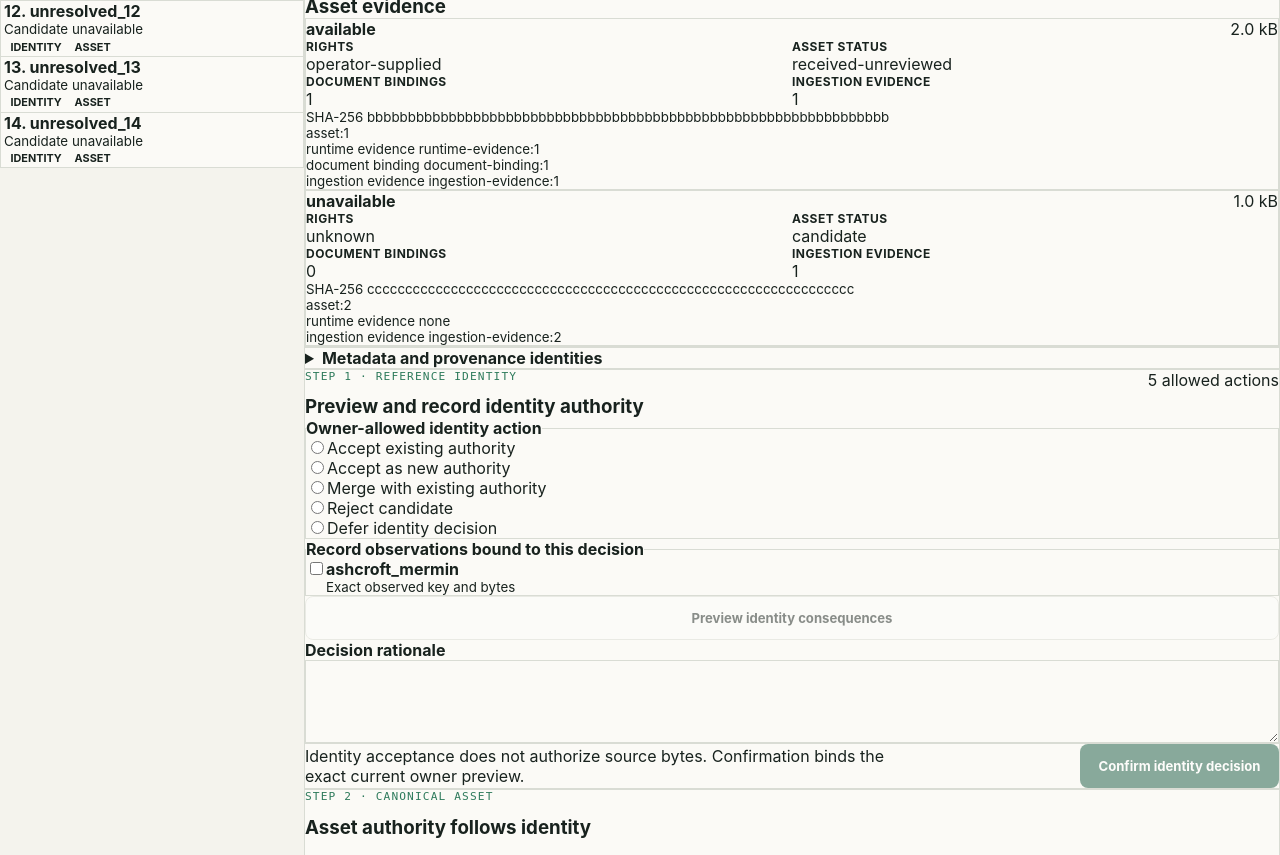
Test case: guards queue navigation while a draft is dirty
The width and height of the screenshot is (1280, 855).
(page scrolled)
Click the radio button labelled "Defer identity decision": (318, 528) [311,521,324,534]
(page scrolled)
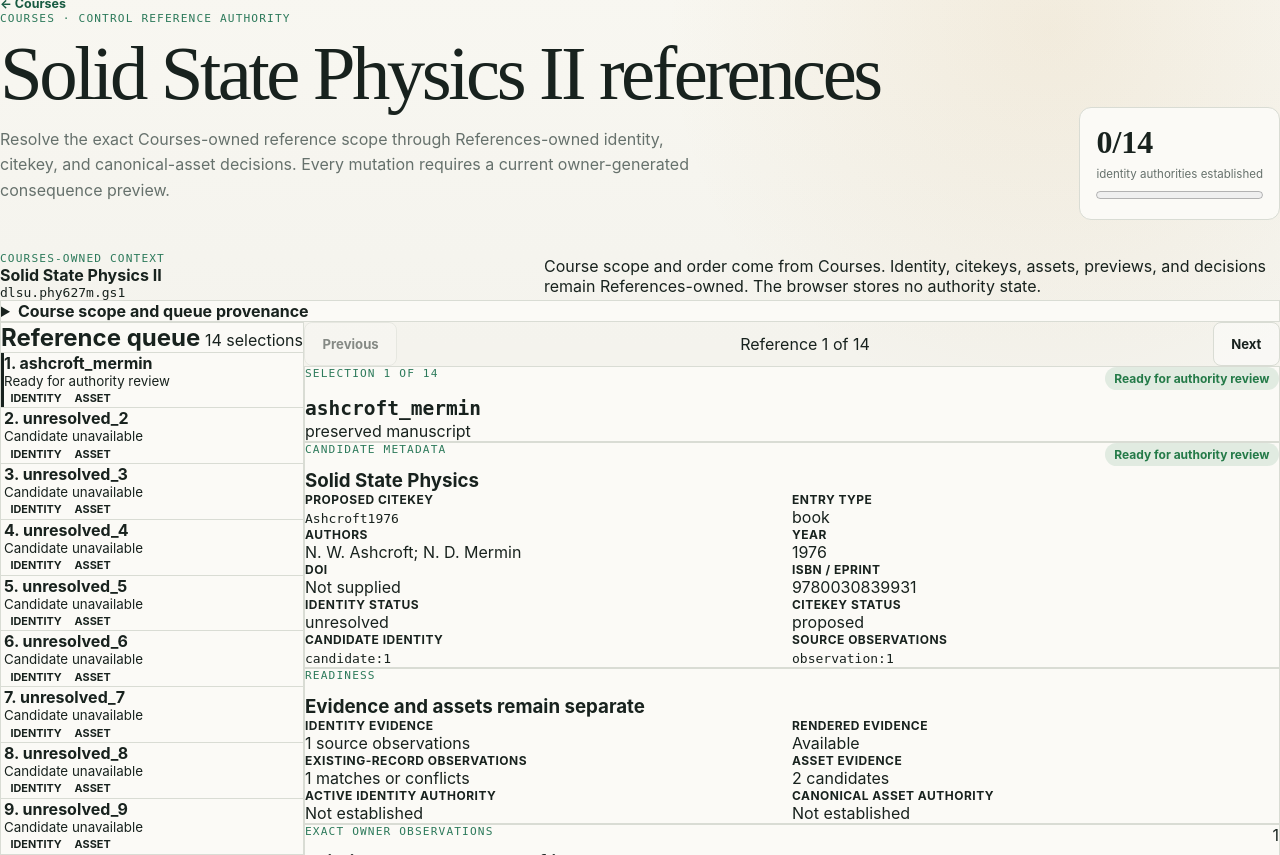
Click the button with aria-label "Select reference 2 of 14: unresolved_2": (76, 418) [1,408,303,463]
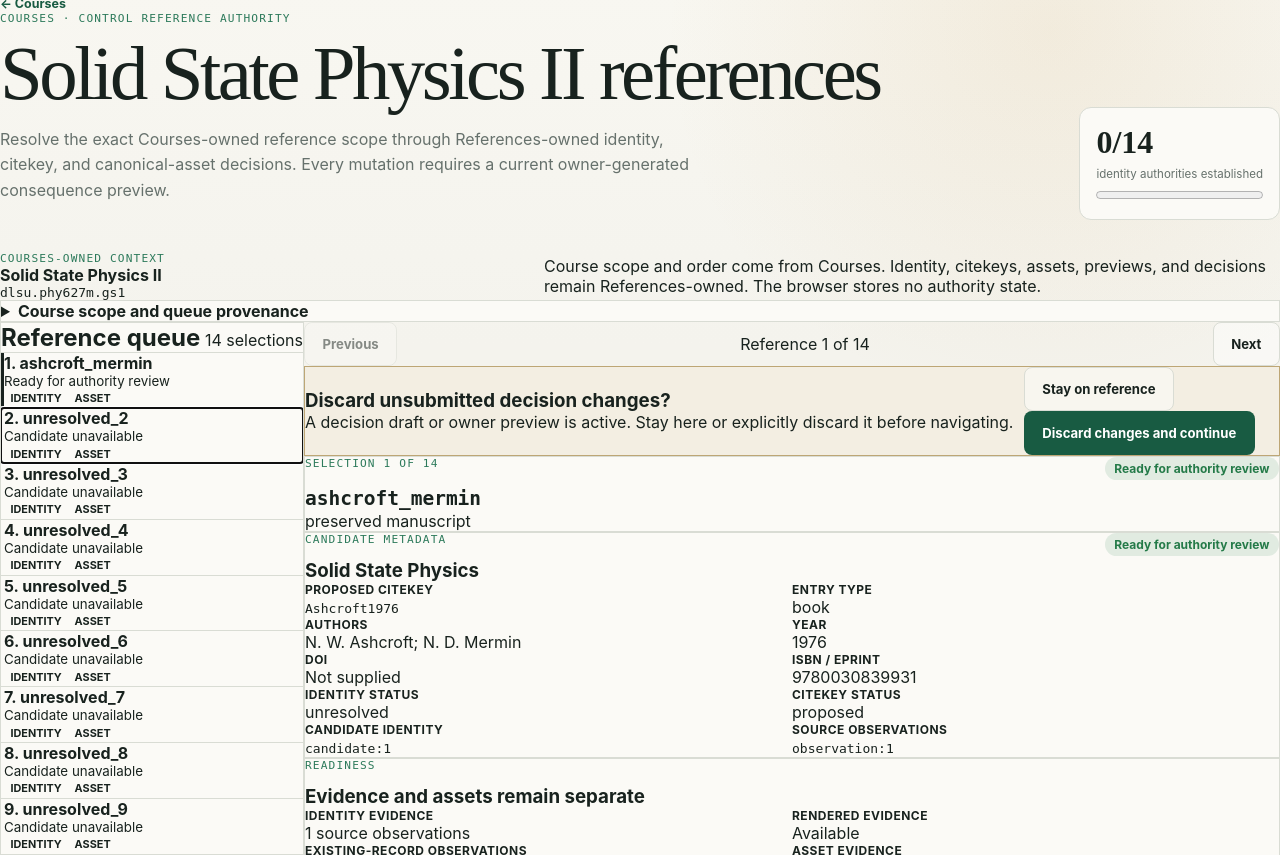
Expected: the text "ashcroft_mermin" is shown, [305,487,481,510]
Result: the heading "Discard unsubmitted decision changes?" is shown at [305,389,671,412]
Click the button "Discard changes and continue": (1139, 432) [1024,410,1255,454]
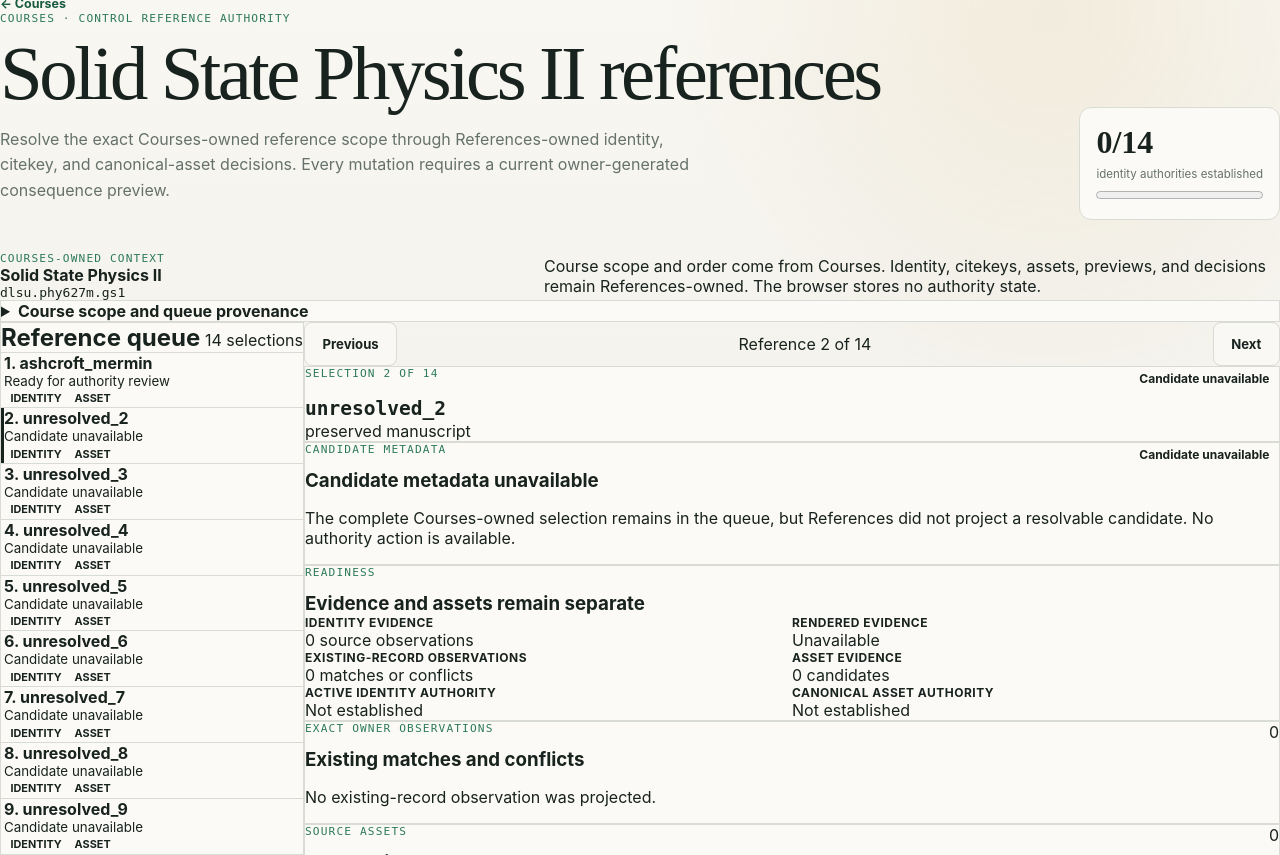
Result: the text "Reference 2 of 14" is shown at [738,334,871,354]
